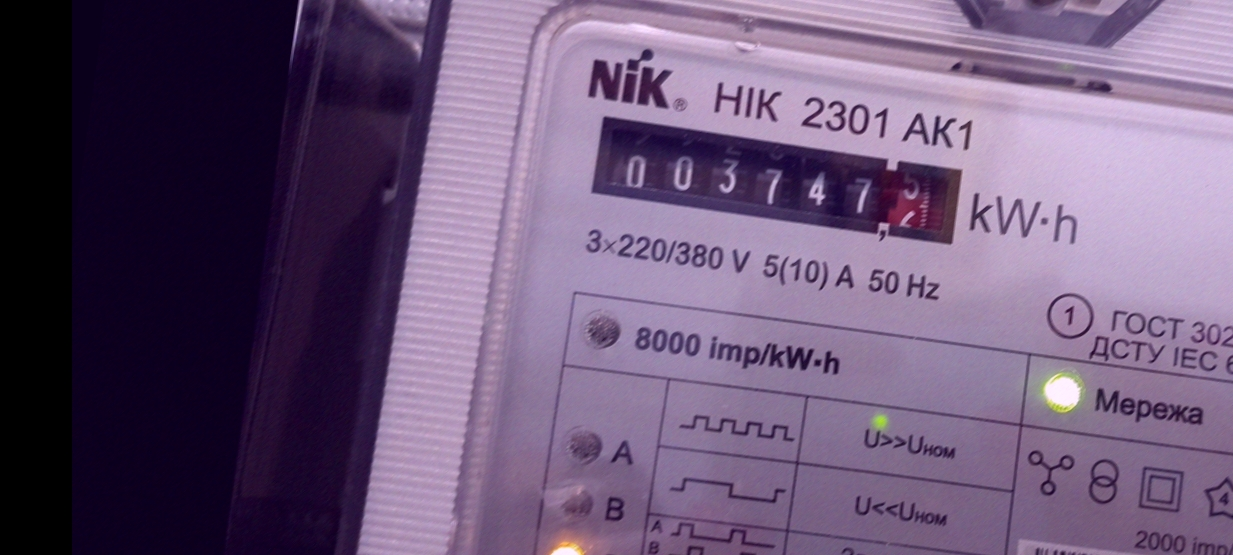0: (671, 152, 697, 192), (624, 152, 650, 189)
3: (717, 156, 741, 195)
4: (805, 167, 831, 209)
5: (901, 171, 924, 202)
6: (897, 206, 918, 229)
7: (848, 173, 876, 216), (760, 165, 785, 207)
screen: (581, 104, 980, 262)
